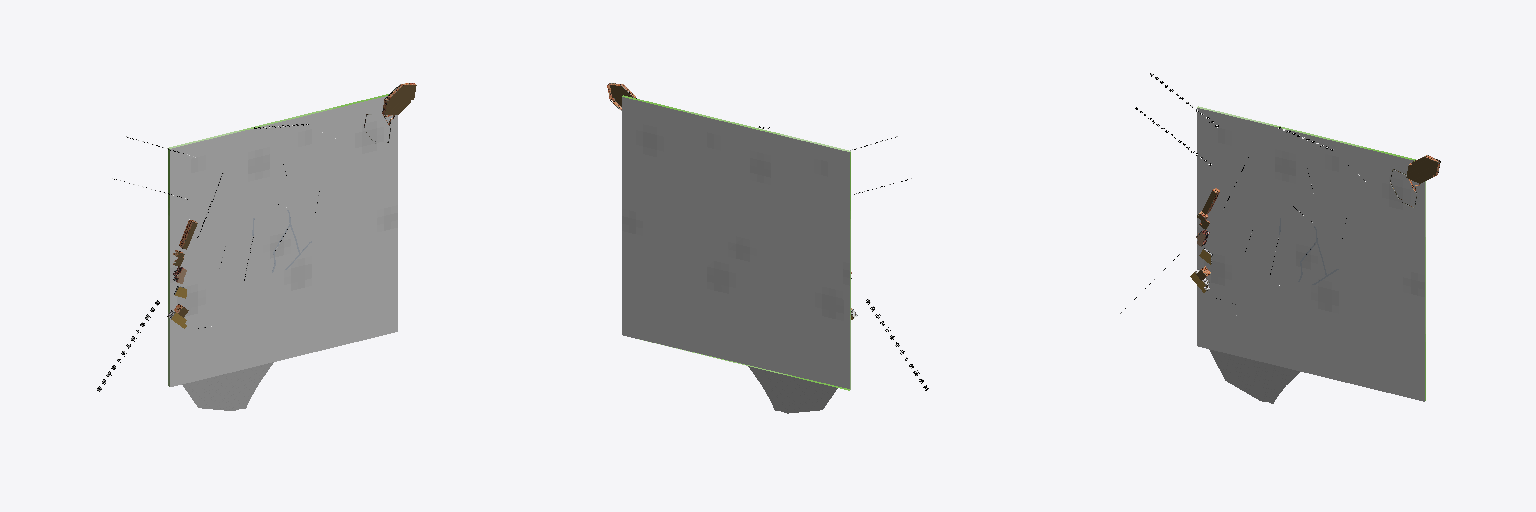
3 views of the same model, side by side, from view 1: azimuth 30°, elevation 25°; view 2: azimuth 150°, elevation 25°; view 3: azimuth 330°, elevation 25° (orthographic).
Parts seen in each view (by area): view 1: POLYGON, BUILDING; view 2: POLYGON; view 3: POLYGON, BUILDING.
Boxes of the visible parts, <box> form: POLYGON: <box>168,94,397,410</box>; BUILDING: <box>167,83,416,328</box>; POLYGON: <box>622,95,850,413</box>; POLYGON: <box>1197,106,1425,403</box>; BUILDING: <box>1190,155,1440,292</box>.
Bounding box in the file's own units: 855 × 776 × 29.
Materials: 4 (4 with a texture image).